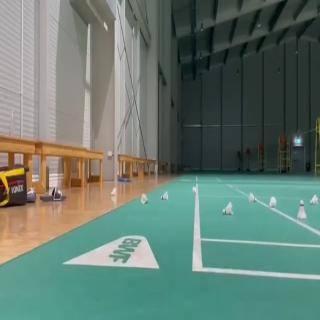Shuttle: (297, 200, 307, 220), (222, 201, 233, 215), (140, 192, 148, 205), (269, 196, 277, 208), (248, 192, 256, 202), (310, 195, 318, 205), (160, 191, 168, 200), (110, 187, 116, 196), (192, 186, 196, 194)
